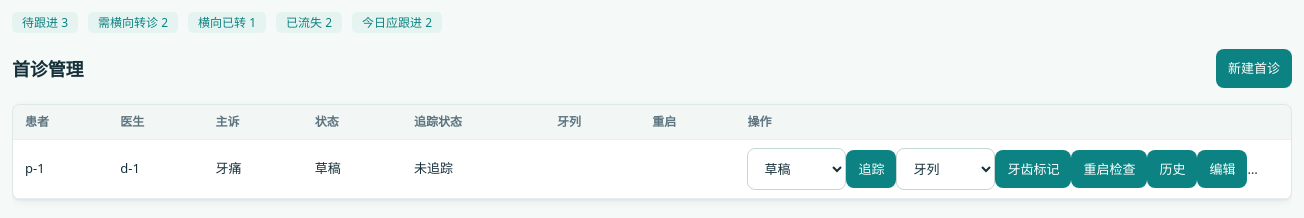
Test: FirstExamsPage › switches the dentition with a toast
The image size is (1304, 218).
Select "恒牙列" in the dropdown named "切换牙列" at (946, 169), box [896,148,995,190]
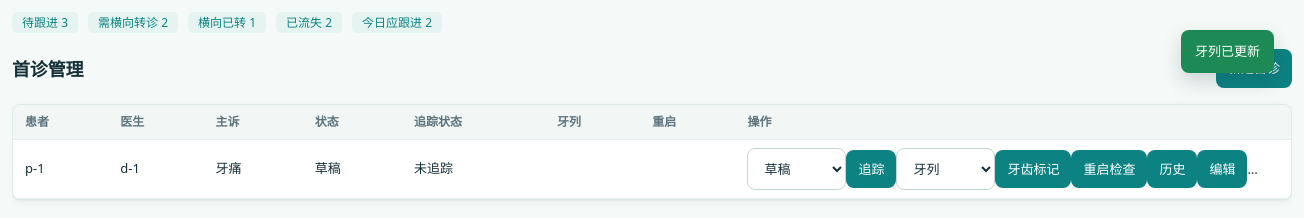
Expected: the text "牙列已更新" is shown, [1181,30,1274,73]
